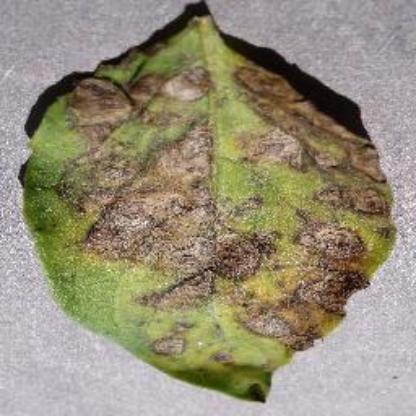Early-Blight: (16, 10, 402, 402)
